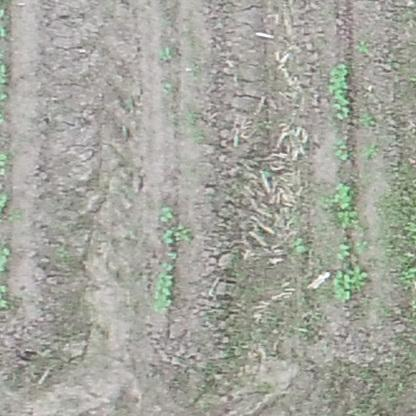vc: (329, 60, 354, 120), (154, 265, 175, 310), (330, 178, 357, 210), (331, 269, 353, 302), (336, 240, 353, 262), (292, 236, 308, 257), (159, 204, 175, 222), (336, 142, 351, 160), (160, 227, 174, 245), (159, 47, 174, 63)
